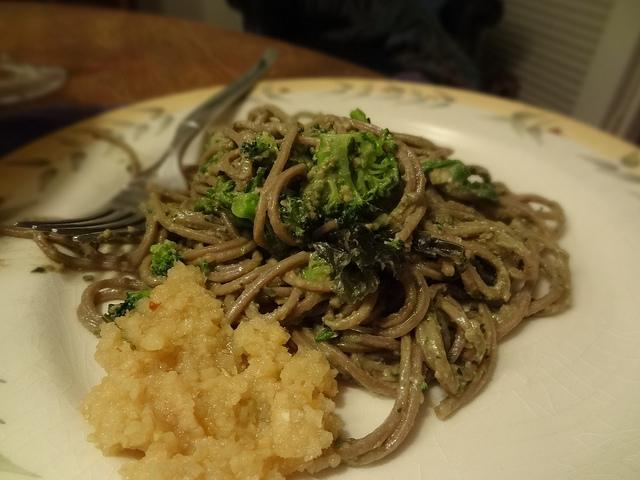broccoli: (194, 166, 266, 230), (346, 128, 402, 208), (232, 186, 310, 239), (421, 160, 498, 202), (108, 288, 153, 320), (294, 250, 336, 282), (150, 240, 181, 278), (240, 132, 279, 162), (314, 327, 341, 343), (350, 108, 370, 124)
